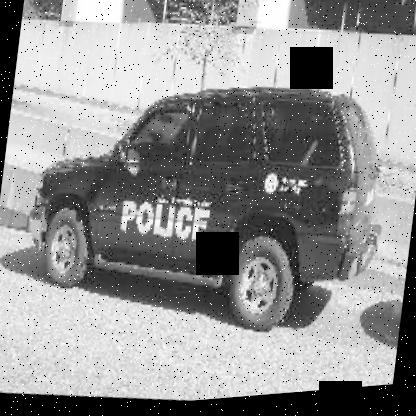emergency: (19, 58, 398, 392)
